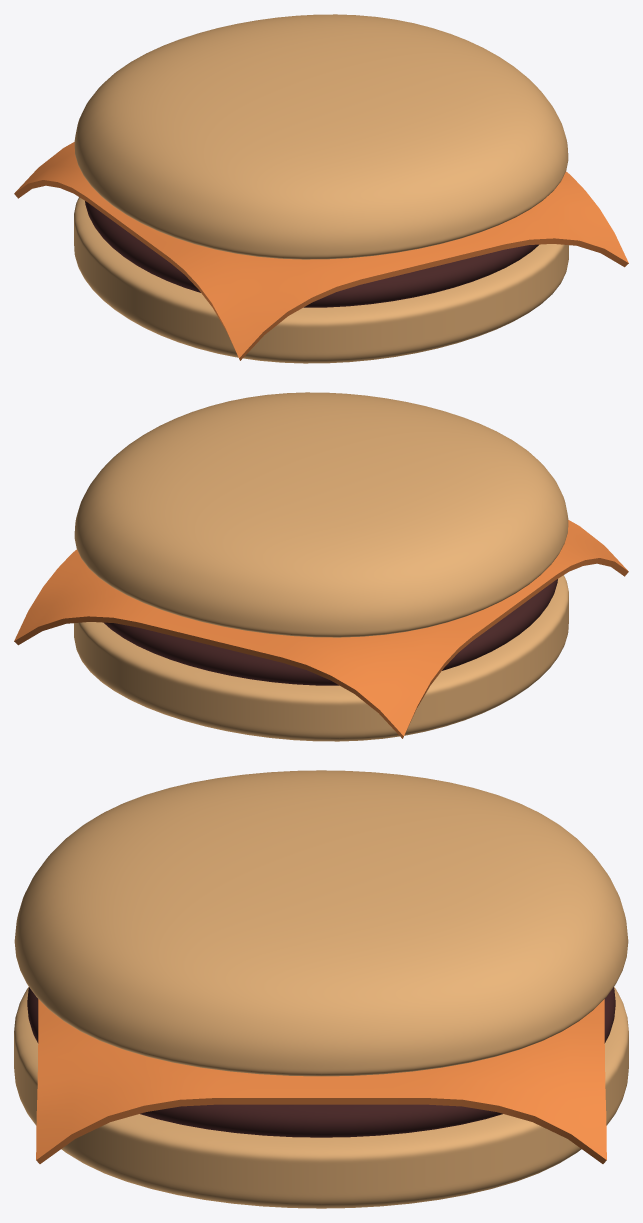
File: burger.glb
3 views of the same model, one above another, from view 1: azimuth 30°, elevation 25°; view 2: azimuth 150°, elevation 25°; view 3: azimuth 270°, elevation 25° (orthographic). The views are drawn at different scales.
Visible parts, largest first — view 1: Cube.002, Cube, Plane.001, Cube.001; view 2: Cube.002, Cube, Plane.001, Cube.001; view 3: Cube.002, Cube, Plane.001, Cube.001.
Boxes of the visible parts, x1=… form: Cube.002: x1=74, y1=14, x2=568, y2=259; Cube: x1=74, y1=197, x2=568, y2=363; Plane.001: x1=14, y1=142, x2=628, y2=360; Cube.001: x1=85, y1=201, x2=538, y2=307; Cube.002: x1=74, y1=392, x2=568, y2=637; Cube: x1=74, y1=575, x2=568, y2=741; Plane.001: x1=14, y1=520, x2=628, y2=738; Cube.001: x1=104, y1=579, x2=557, y2=685; Cube.002: x1=14, y1=770, x2=628, y2=1076; Cube: x1=14, y1=987, x2=628, y2=1208; Plane.001: x1=36, y1=999, x2=606, y2=1163; Cube.001: x1=27, y1=987, x2=615, y2=1137.
Size of the model in its own units: 9.18 by 4.14 by 9.18.
